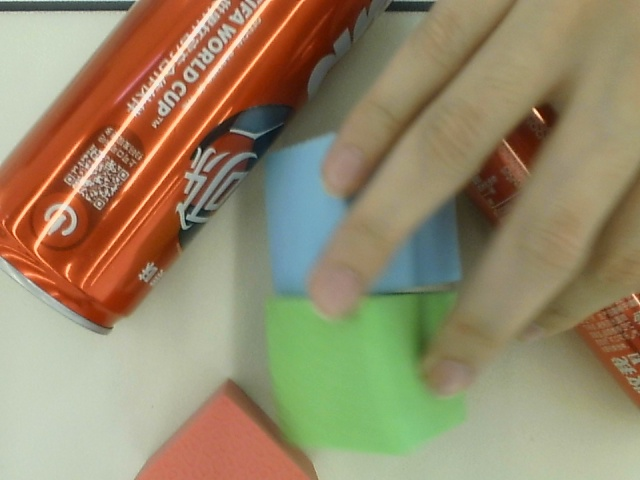bluecube: (259, 126, 469, 296)
cola: (1, 1, 396, 341), (449, 62, 640, 435)
greencube: (253, 289, 491, 457)
redcube: (129, 376, 330, 480)
